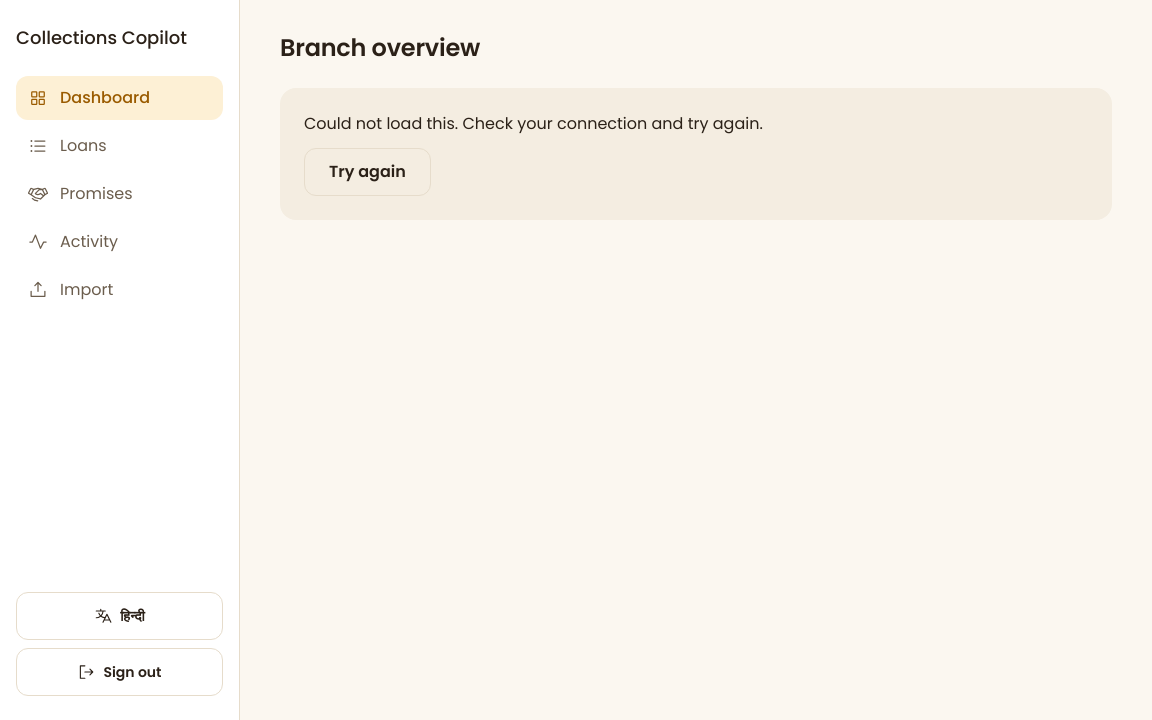
Scenario: manager dashboard › shows an error with a working retry
Click the button "Try again".
click(367, 172)  # box [304,148,431,196]
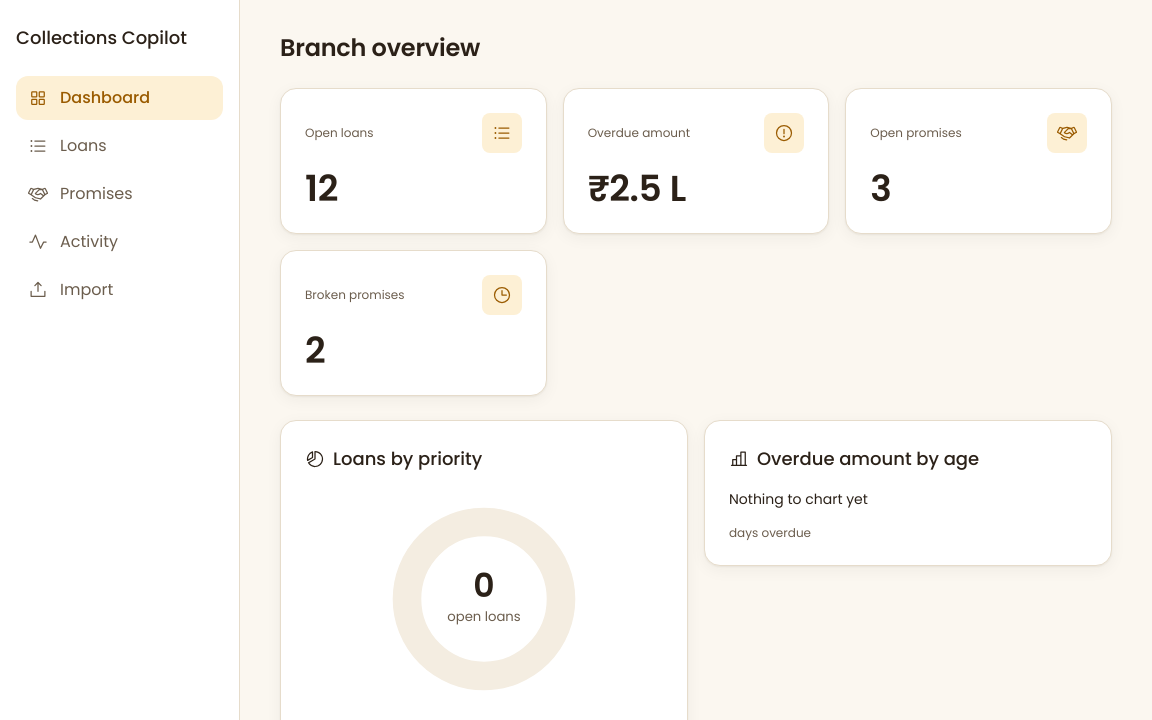
Check: the text "₹2.5 L" is shown, box [588,163,686,214]
